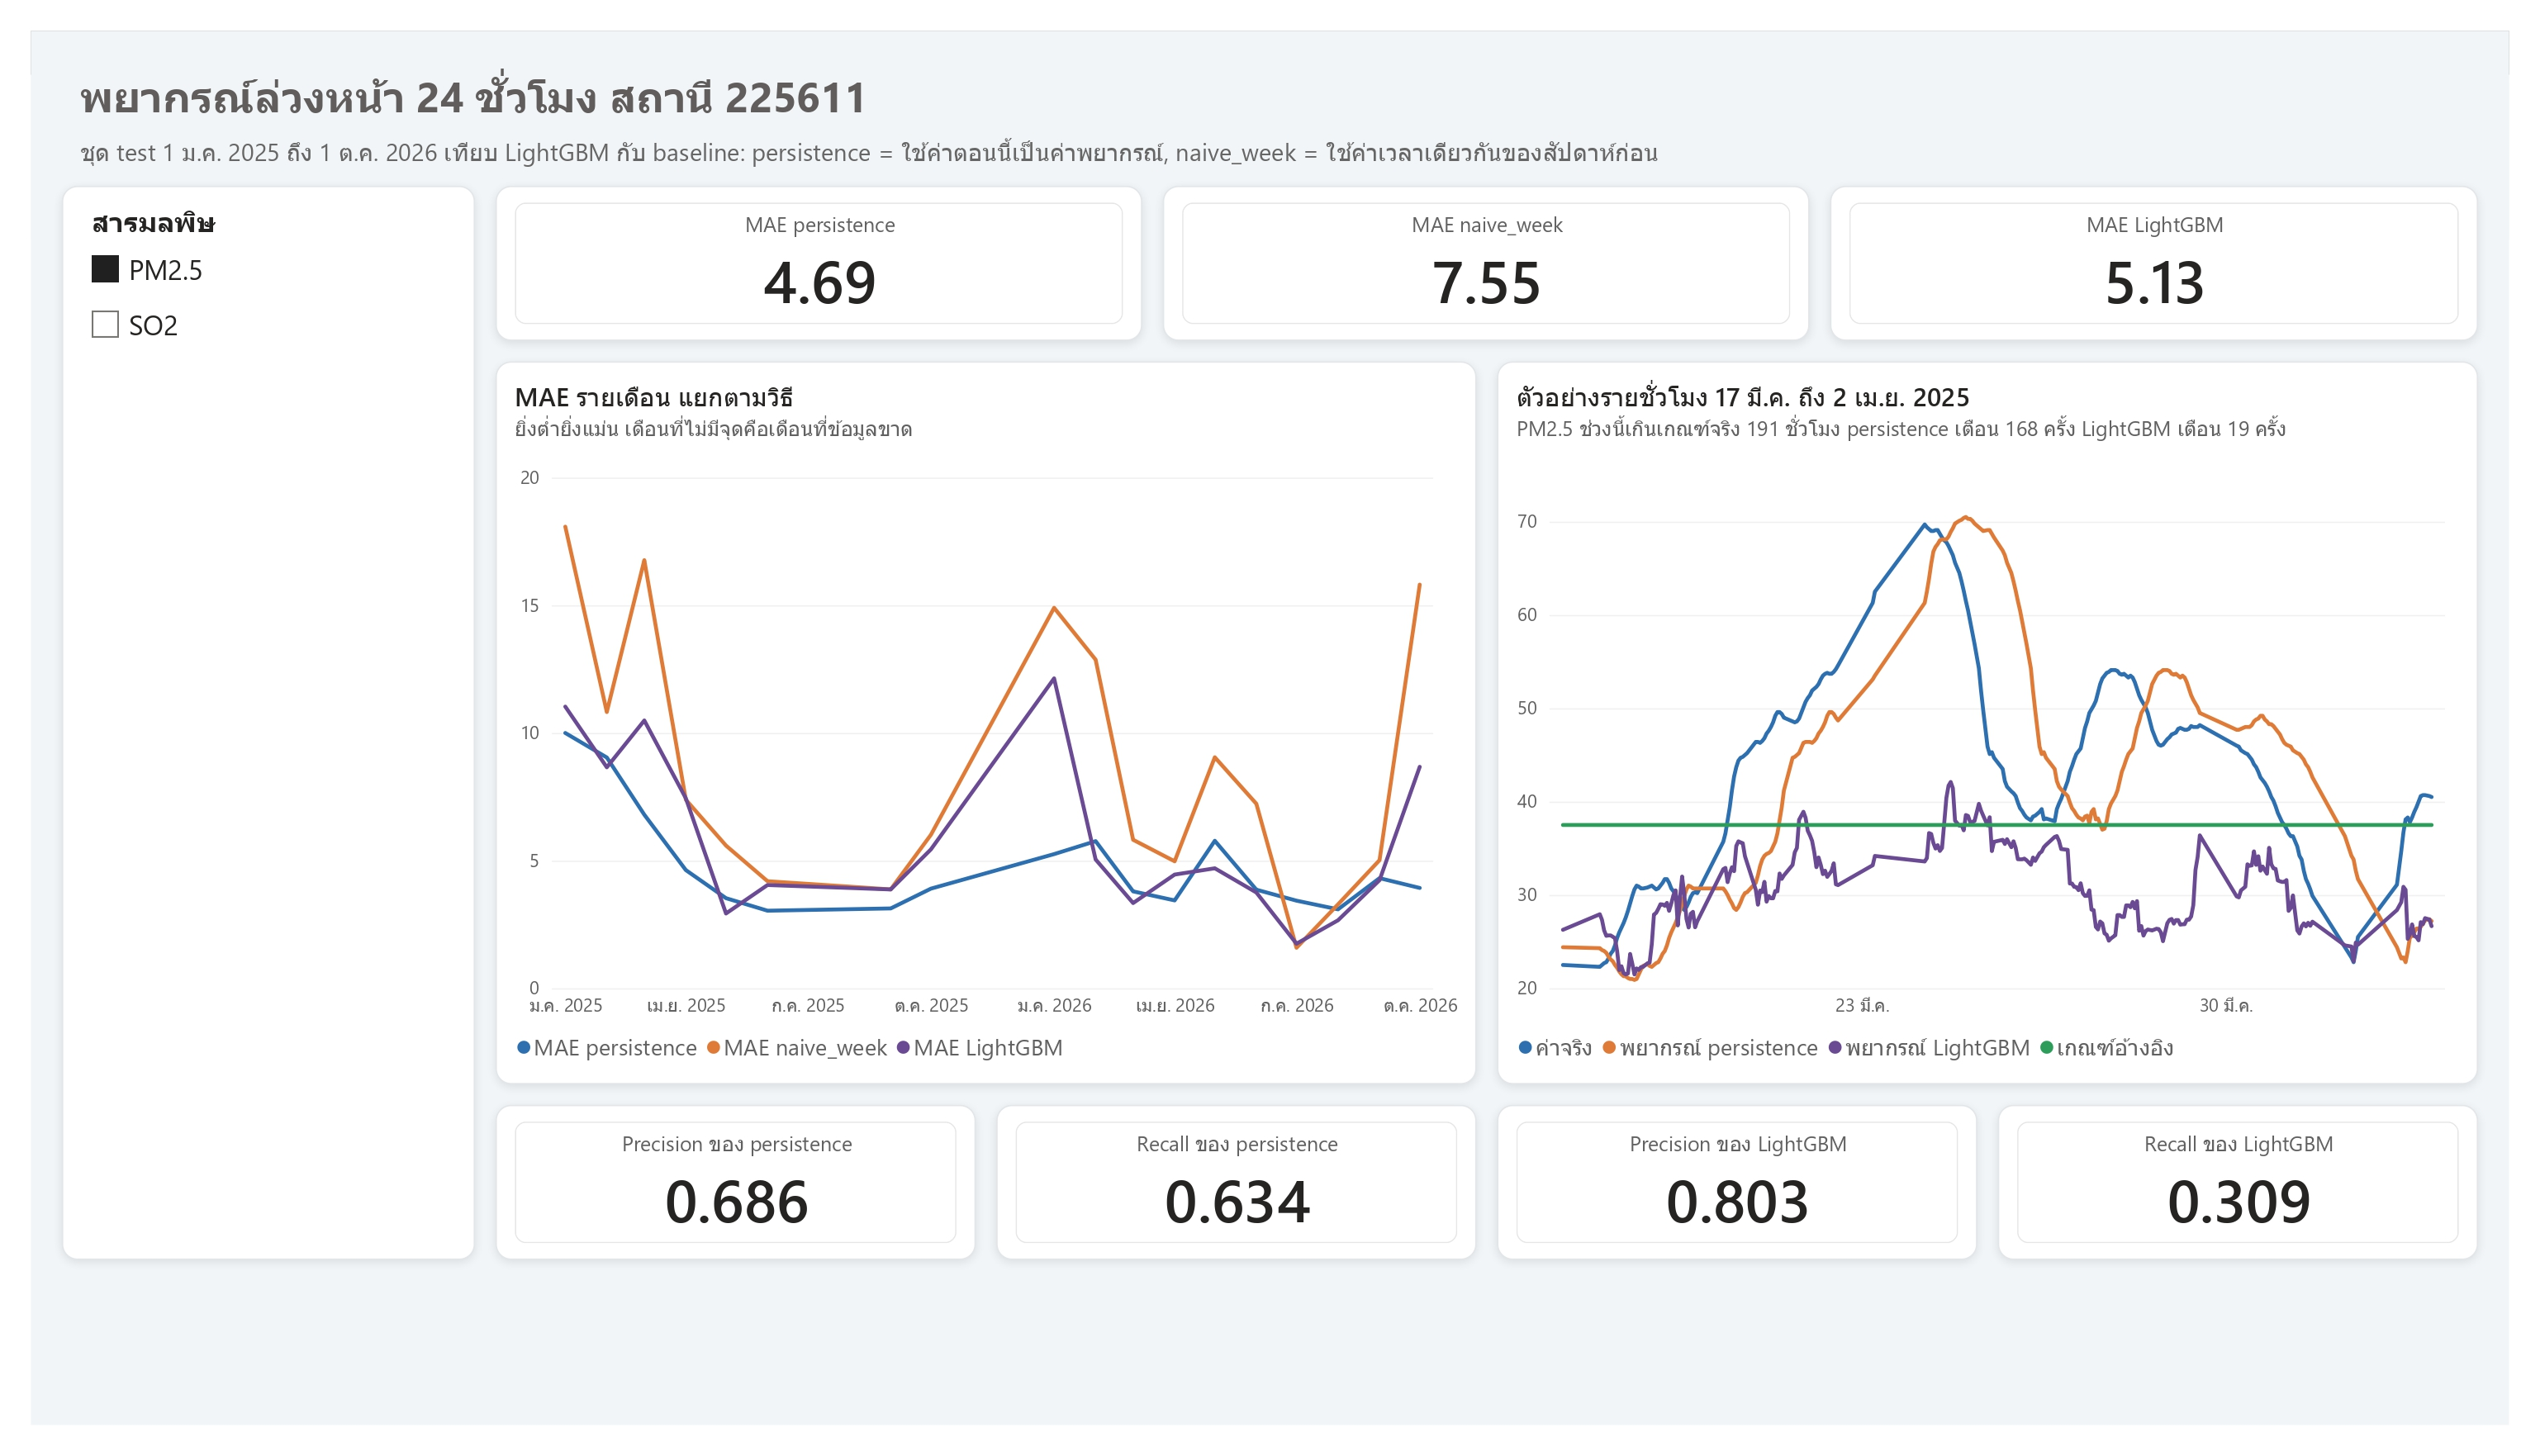

The page's visual inventory and layout, read from the dashboard file:
{"tool":"powerbi","page":{"name":"พยากรณ์","canvas":[1920,1080],"ordinal":2},"visuals":[{"type":"textbox","box":[24.3,15.7,1871.4,72.9],"z":0},{"type":"textbox","box":[24.3,68.6,1871.4,51.4],"z":1000},{"type":"slicer","fields":{"Values":["forecast.pollutant_name"]},"box":[23.9,119.6,320.2,831.9],"z":2000},{"type":"cardVisual","fields":{"Data":["forecast.MAE persistence"]},"box":[360,120,501,120],"z":4000},{"type":"cardVisual","fields":{"Data":["forecast.MAE naive_week"]},"box":[877,120,501,120],"z":5000},{"type":"cardVisual","fields":{"Data":["forecast.MAE LightGBM"]},"box":[1394,120,502,120],"z":6000},{"type":"lineChart","title":"MAE รายเดือน แยกตามวิธี","fields":{"Category":["date.MonthStart"],"Y":["forecast.MAE persistence","forecast.MAE naive_week","forecast.MAE LightGBM"]},"box":[360,256,760,560],"z":7000},{"type":"lineChart","title":"ตัวอย่างรายชั่วโมง 17 มี.ค. ถึง 2 เม.ย. 2025","fields":{"Category":["forecast.target_time"],"Y":["forecast.ค่าจริง","forecast.พยากรณ์ persistence","forecast.พยากรณ์ LightGBM","forecast.เกณฑ์อ้างอิง"]},"box":[1136,256,760,560],"z":8000},{"type":"cardVisual","fields":{"Data":["forecast.Precision persistence"]},"box":[360,832,372,120],"z":9100},{"type":"cardVisual","fields":{"Data":["forecast.Recall persistence"]},"box":[748,832,372,120],"z":9101},{"type":"cardVisual","fields":{"Data":["forecast.Precision LightGBM"]},"box":[1136,832,372,120],"z":9102},{"type":"cardVisual","fields":{"Data":["forecast.Recall LightGBM"]},"box":[1524,832,372,120],"z":9103}]}

Visuals, with their boxes on the page's 1920x1080 design canvas (x1, y1, x2, y2). These are canvas units, not pixel positions in the 2540x1456 screenshot, which may show the page scaled, cropped or inside an application window:
textbox: (x1=24, y1=16, x2=1896, y2=89)
textbox: (x1=24, y1=69, x2=1896, y2=120)
slicer - forecast.pollutant_name: (x1=24, y1=120, x2=344, y2=952)
cardVisual - forecast.MAE persistence: (x1=360, y1=120, x2=861, y2=240)
cardVisual - forecast.MAE naive_week: (x1=877, y1=120, x2=1378, y2=240)
cardVisual - forecast.MAE LightGBM: (x1=1394, y1=120, x2=1896, y2=240)
"MAE รายเดือน แยกตามวิธี" lineChart: (x1=360, y1=256, x2=1120, y2=816)
"ตัวอย่างรายชั่วโมง 17 มี.ค. ถึง 2 เม.ย. 2025" lineChart: (x1=1136, y1=256, x2=1896, y2=816)
cardVisual - forecast.Precision persistence: (x1=360, y1=832, x2=732, y2=952)
cardVisual - forecast.Recall persistence: (x1=748, y1=832, x2=1120, y2=952)
cardVisual - forecast.Precision LightGBM: (x1=1136, y1=832, x2=1508, y2=952)
cardVisual - forecast.Recall LightGBM: (x1=1524, y1=832, x2=1896, y2=952)
